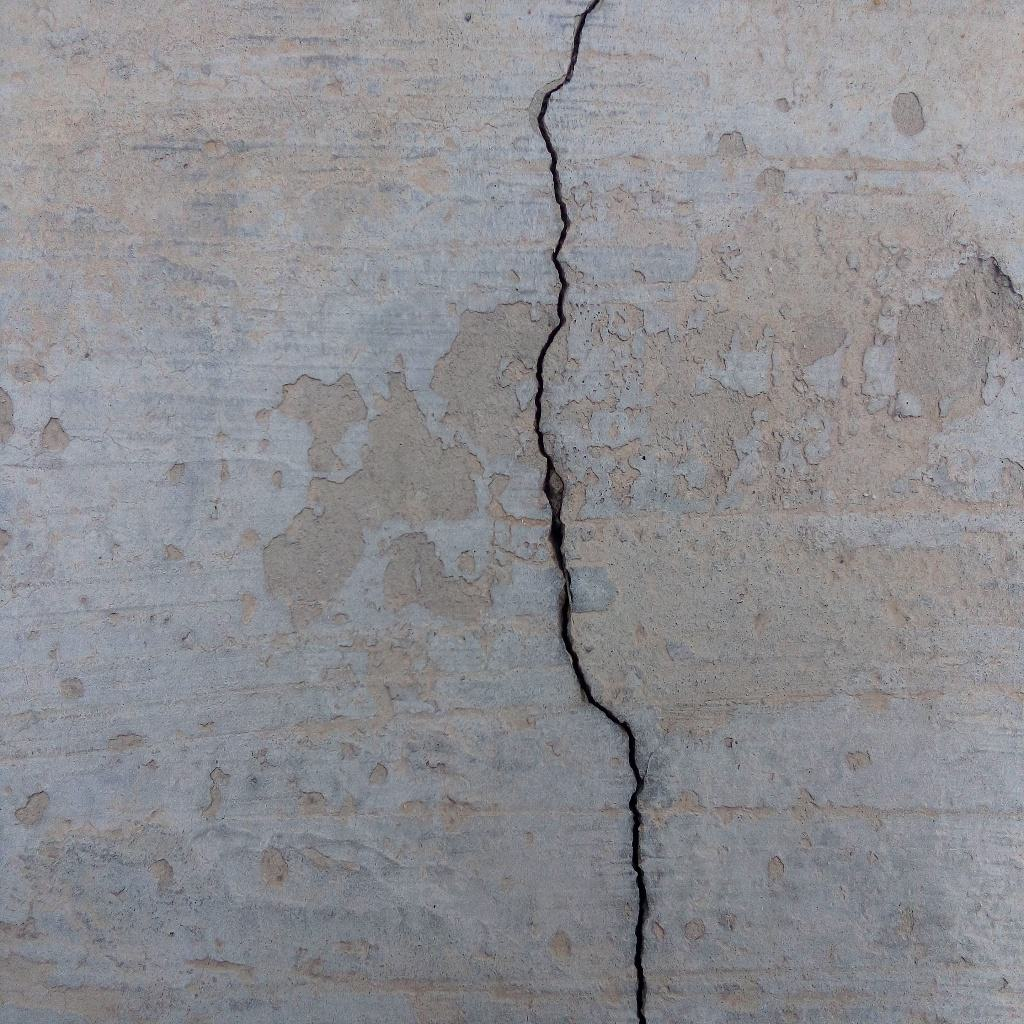Crack: (531, 1, 652, 1024)
Spalling: (252, 167, 1024, 752), (652, 791, 884, 833), (296, 787, 500, 830), (181, 951, 256, 976), (198, 766, 232, 819), (889, 89, 925, 138), (709, 129, 749, 172), (12, 789, 51, 828), (258, 845, 291, 889), (39, 415, 70, 454), (145, 857, 175, 897), (1, 386, 18, 447), (103, 732, 148, 753), (545, 930, 573, 963), (681, 914, 708, 944), (763, 853, 787, 886), (59, 676, 86, 701), (365, 761, 391, 786), (166, 461, 185, 487), (161, 543, 187, 562), (218, 457, 231, 482), (774, 95, 790, 114), (653, 921, 667, 941), (1, 527, 11, 552)
